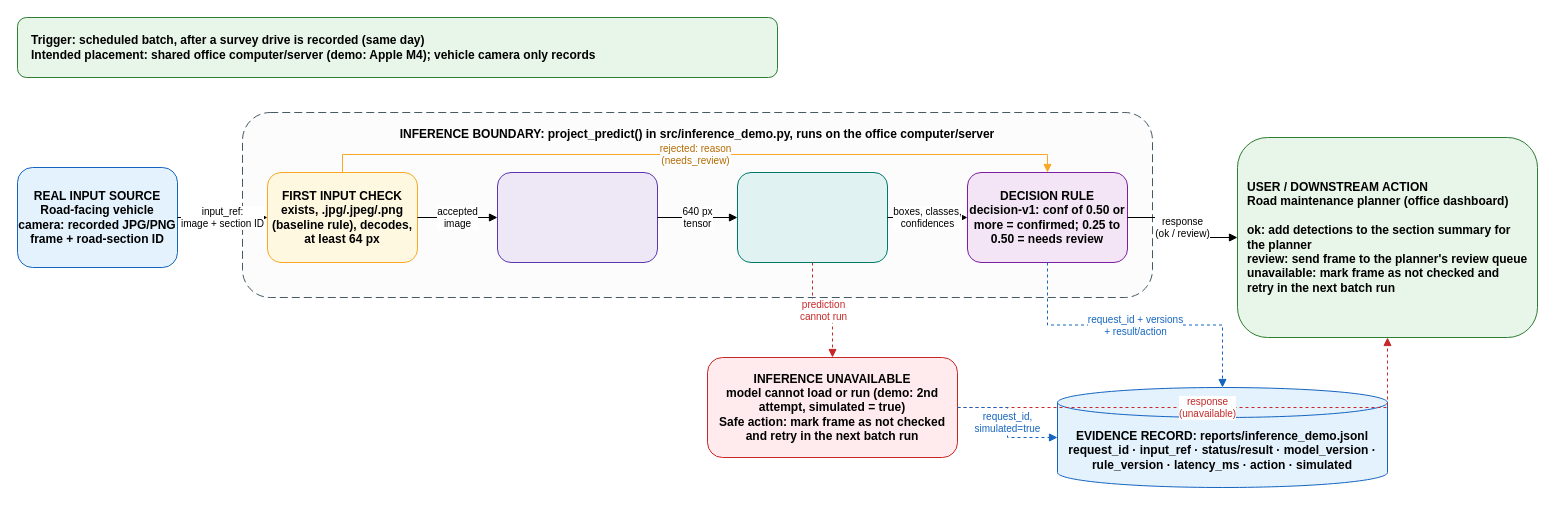
The diagram is 1555 pixels wide and 505 high, and some of its shapes have lost their labels. The shapes that lost their labels are listed below. From the top down, each one's centre as x and y in pixels, then its label:
At pixel 577 217: "PREPROCESSING letterbox resize to 640 px, normalise (inside Ultralytics predict)".
At pixel 812 217: "LAB 02 BASELINE / MODEL YOLOv8n best.pt baseline-v1 (test mAP50 0.457)".
